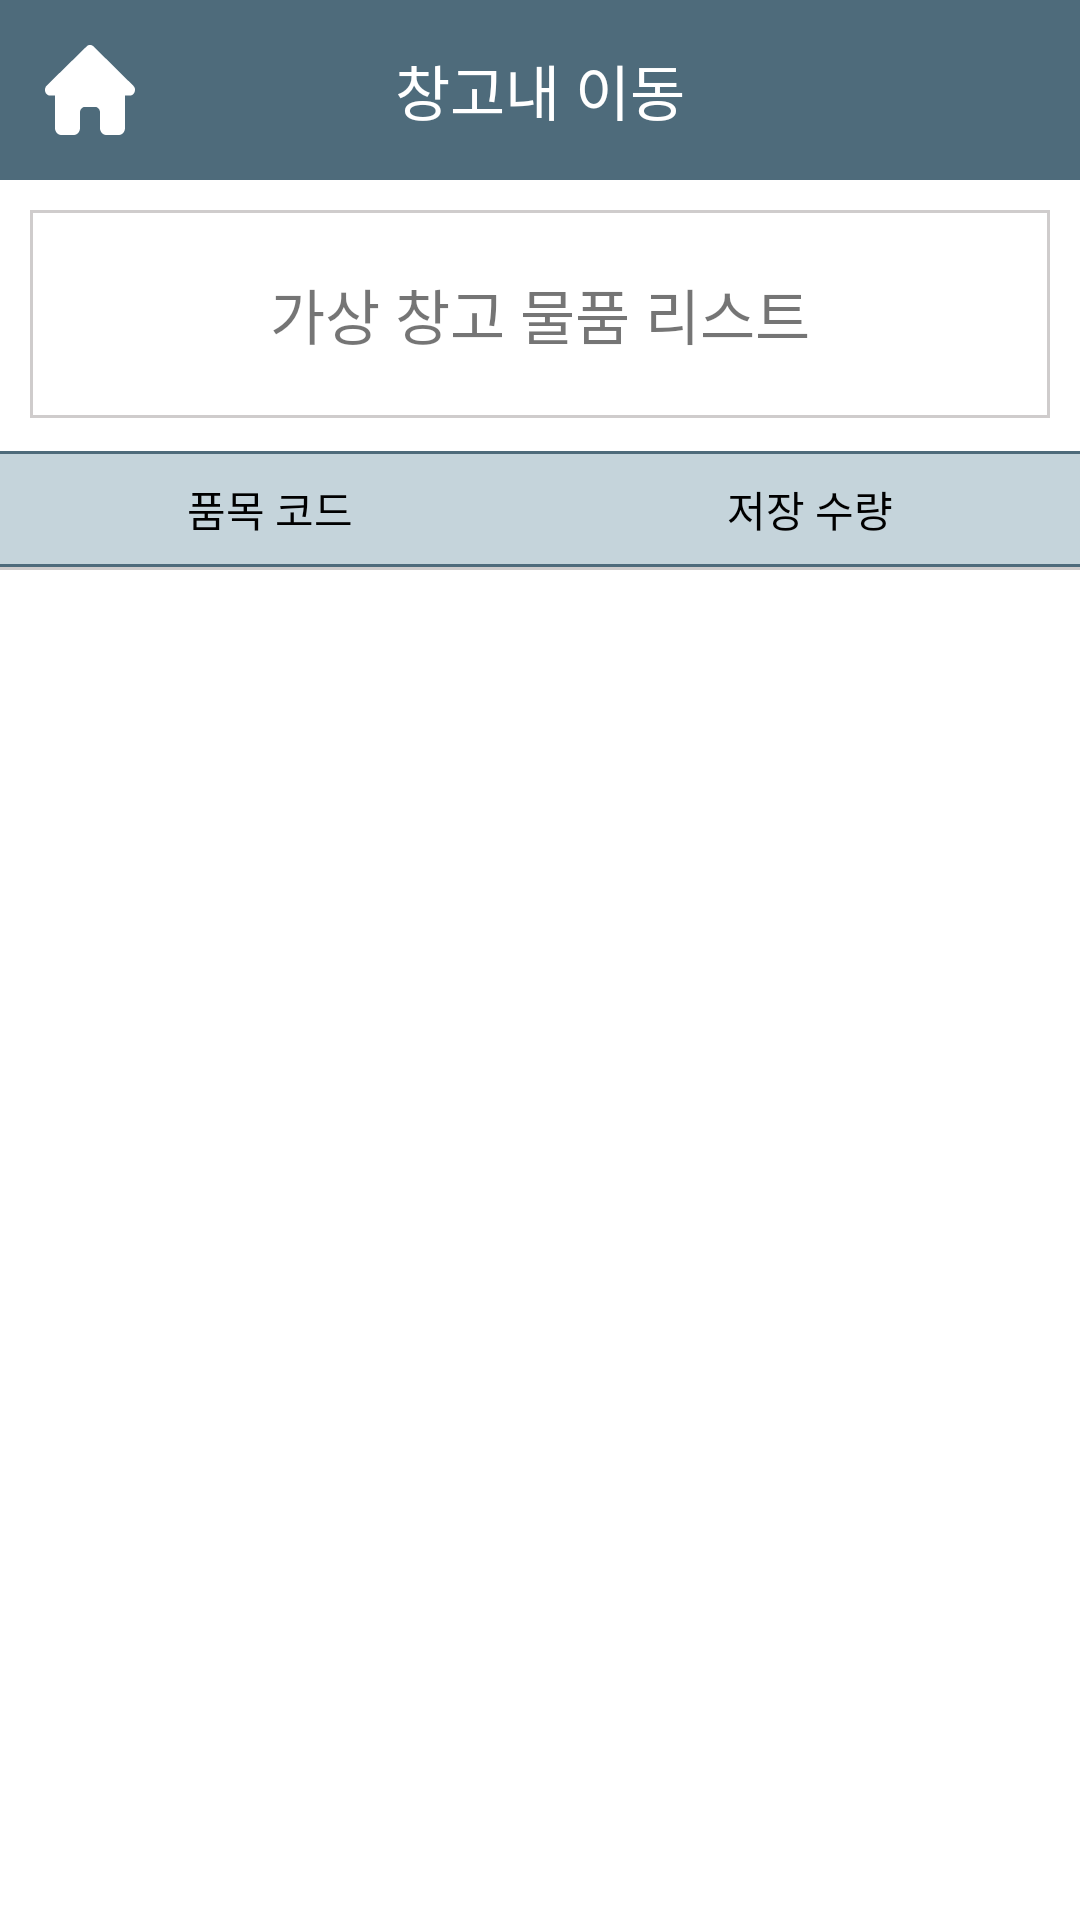

Icons on this 1080px×1920px Android screen, each with its box as [x1,y1,x2,y2]:
house: [45,45,135,135]
